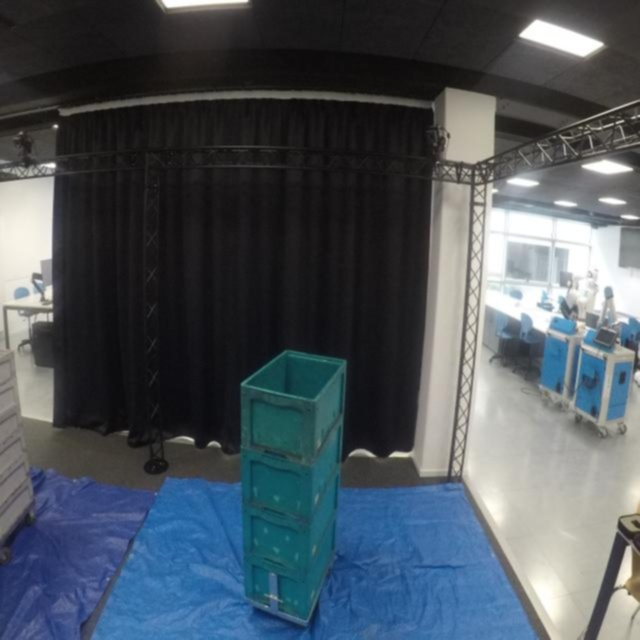BoxB4: (234, 351, 353, 453), (238, 442, 354, 504), (245, 552, 345, 620), (244, 499, 350, 561)
